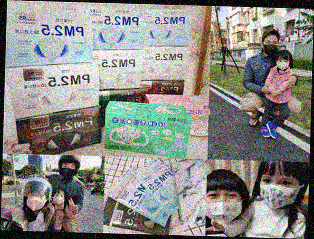with_mask: (258, 174, 301, 210), (205, 189, 244, 225), (25, 193, 48, 212), (59, 162, 76, 179), (263, 38, 279, 56), (52, 192, 66, 206), (276, 58, 291, 71)
